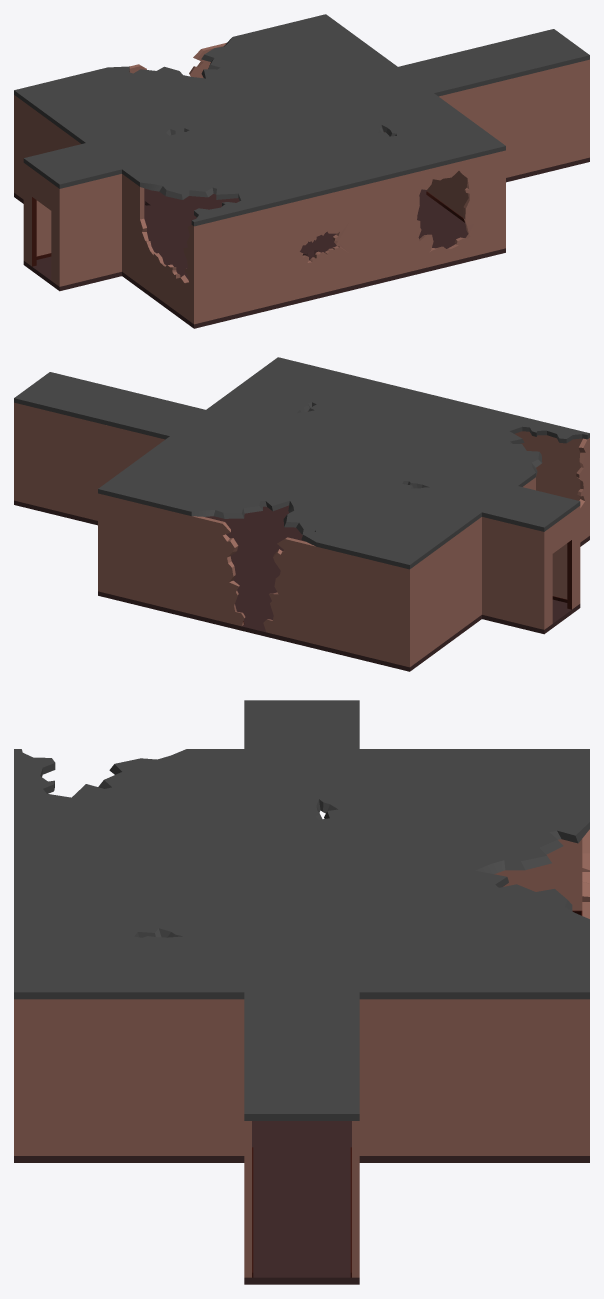
The model's file is AntiChambre_Marchandage.fbx.
The picture shows the model from 3 angles, top to bottom: view 1: azimuth 30°, elevation 25°; view 2: azimuth 150°, elevation 25°; view 3: azimuth 270°, elevation 25°; orthographic projection. The views are drawn at different scales.
Parts seen in each view (by area): view 1: Marchandage_Murs, Marchandage_Plafond, TM4, TP2, TM3, TP1, TP3, TP4; view 2: Marchandage_Plafond, Marchandage_Murs, TM1, TM2, TM4, TP1, TP3, TP2, TP4; view 3: Marchandage_Plafond, Marchandage_Murs, TP3, TP1, TP2, TP4.
Boxes of the visible parts, <box> form: Marchandage_Murs: <box>14,59,589,328</box>; Marchandage_Plafond: <box>14,14,589,211</box>; TM4: <box>176,219,225,324</box>; TP2: <box>140,167,238,199</box>; TM3: <box>140,218,180,310</box>; TP1: <box>201,37,267,78</box>; TP3: <box>108,66,204,93</box>; TP4: <box>191,194,256,226</box>; Marchandage_Plafond: <box>14,357,580,569</box>; Marchandage_Murs: <box>14,402,589,671</box>; TM1: <box>191,516,245,626</box>; TM2: <box>263,537,316,644</box>; TM4: <box>556,438,589,542</box>; TP1: <box>191,485,289,518</box>; TP3: <box>283,500,351,546</box>; TP2: <box>474,431,542,475</box>; TP4: <box>510,418,589,443</box>; Marchandage_Plafond: <box>14,700,589,1120</box>; Marchandage_Murs: <box>14,839,589,1284</box>; TP3: <box>474,822,589,874</box>; TP1: <box>474,870,589,919</box>; TP2: <box>72,749,186,797</box>; TP4: <box>14,749,70,797</box>.
Bounding box in the file's own units: 1700 × 340 × 1000.
